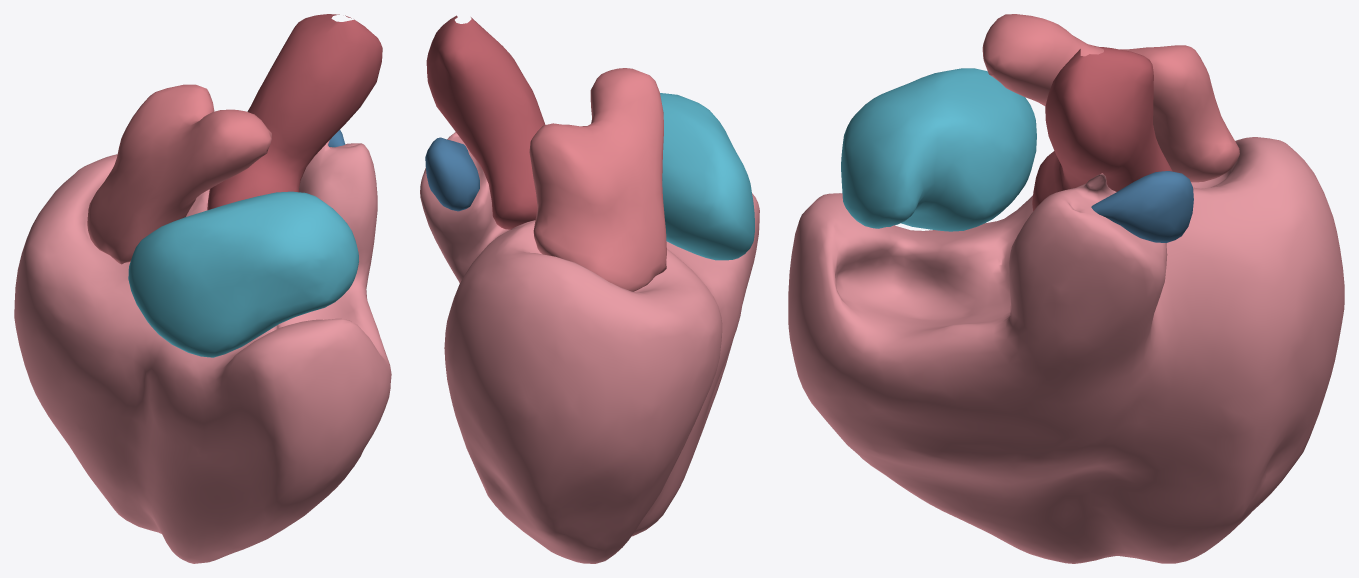
Rendered from frame_55.glb.
3 renders of one model, left to right at view 1: azimuth 30°, elevation 25°; view 2: azimuth 150°, elevation 25°; view 3: azimuth 270°, elevation 25°, orthographic. The views are drawn at different scales.
Visible parts, largest first — view 1: Renderer Node; view 2: Renderer Node; view 3: Renderer Node.
Boxes of the visible parts, x1=… form: Renderer Node: x1=14, y1=14, x2=391, y2=563; Renderer Node: x1=420, y1=15, x2=759, y2=563; Renderer Node: x1=788, y1=14, x2=1344, y2=563.
Size of the model in its own units: 107 by 164 by 137.
